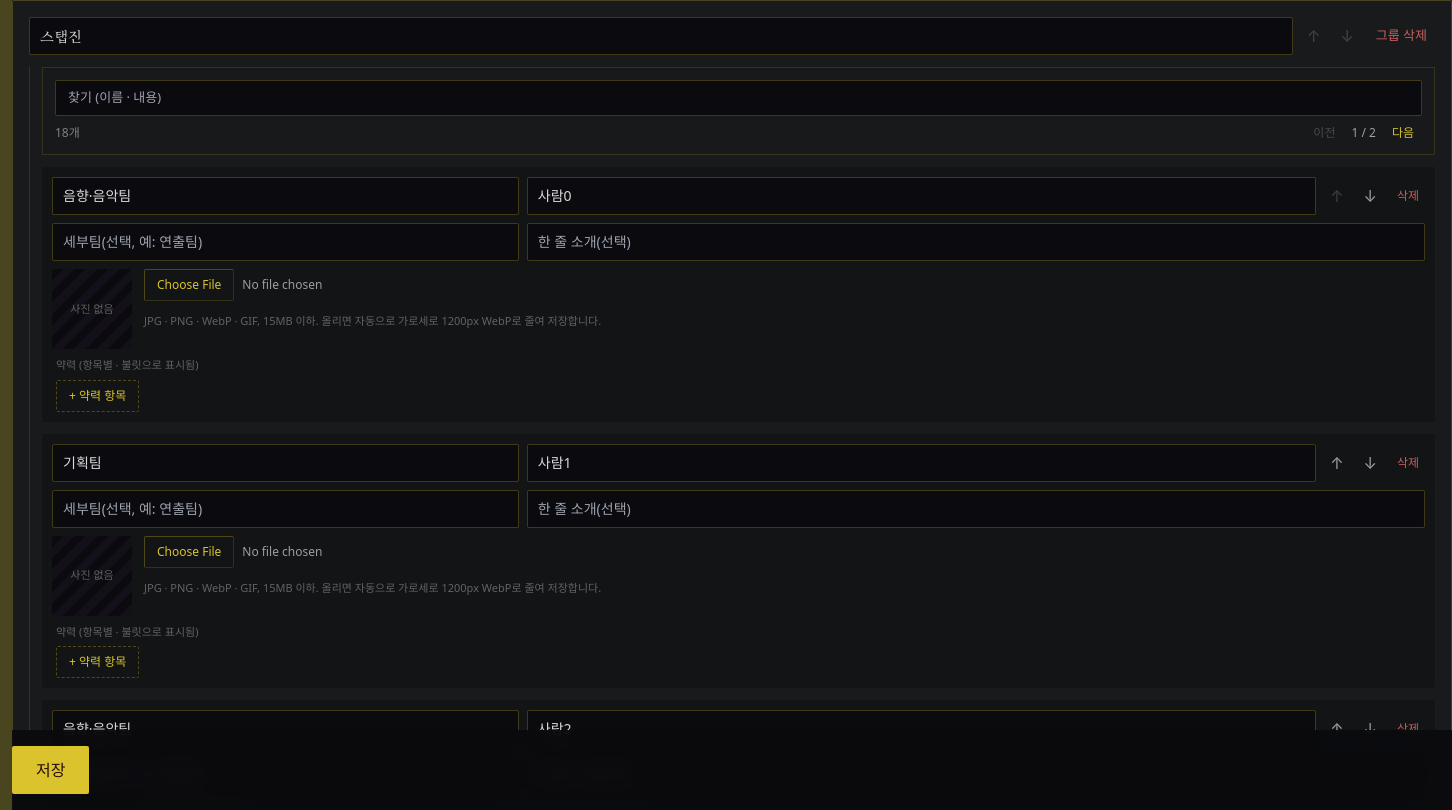
Test: PeopleEditor — 그룹마다 끊어 보기 › 안 보이는 멤버도 저장에 그대로 들어간다
Type "기획팀" into the search field at (738,98), box [55, 80, 1422, 116]
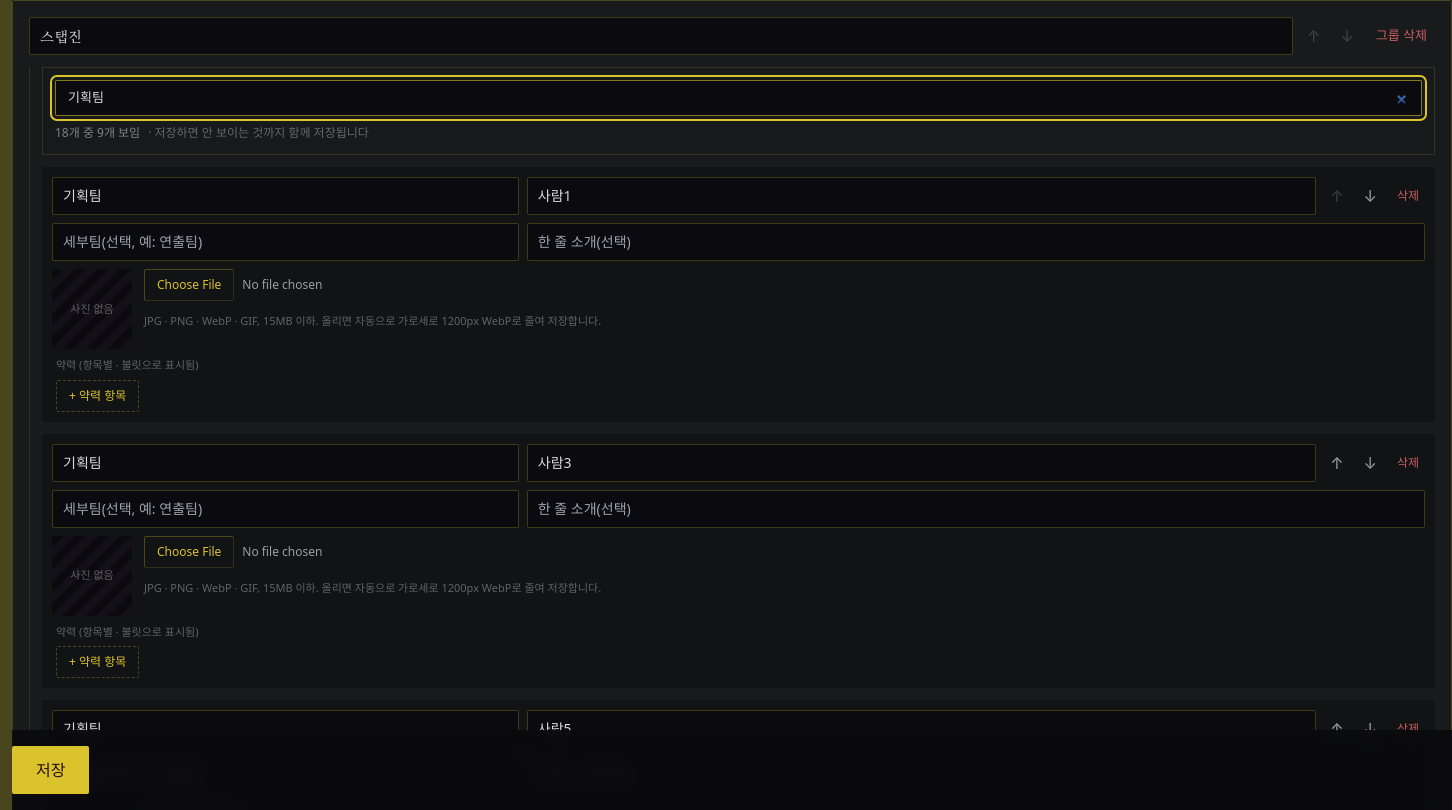
Expected: the text "18개 중 9개 보임· 저장하면 안 보이는 것까지 함께 저장됩니다" is shown, [55, 124, 369, 142]
